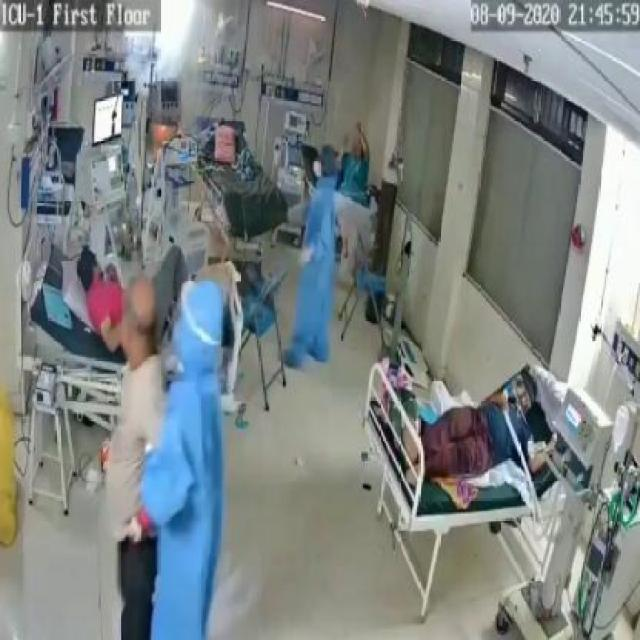fire: (152, 118, 168, 152)
smoke: (131, 32, 184, 86)
